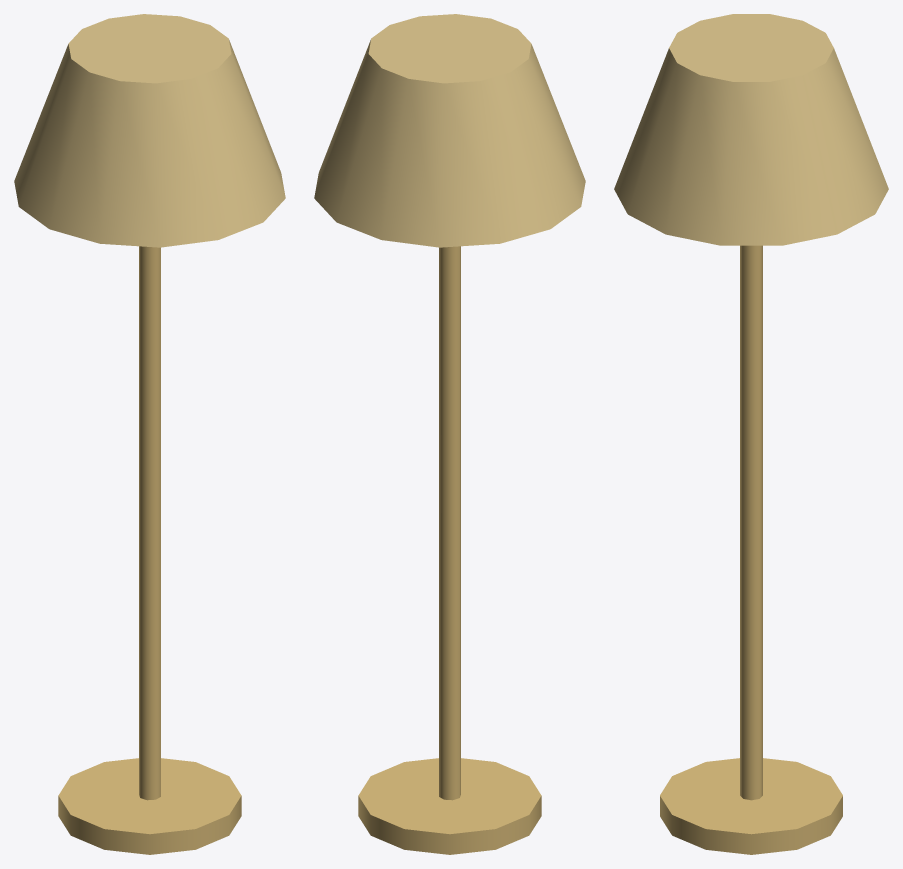
Rendered from hm_lamp.glb.
The picture shows the model from 3 angles, left to right: view 1: azimuth 30°, elevation 25°; view 2: azimuth 150°, elevation 25°; view 3: azimuth 270°, elevation 25°; orthographic projection.
Parts seen in each view (by area): view 1: hm_lamp; view 2: hm_lamp; view 3: hm_lamp.
Boxes of the visible parts, bbox=[...] form: hm_lamp: bbox=[14, 14, 285, 854]; hm_lamp: bbox=[314, 14, 585, 854]; hm_lamp: bbox=[614, 14, 888, 854].
Bounding box in the file's own units: 0.585 × 1.85 × 0.6.
